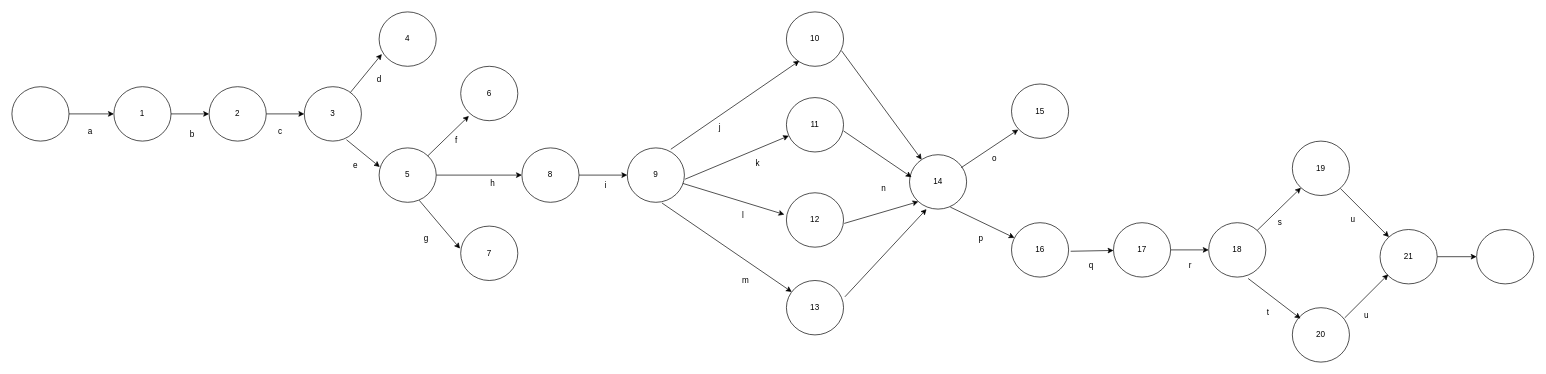
This 1546x374 diagram has some shape labels left out. Here are the shapes that lost their labels. From the top down, the centre of each, then its label:
the point at 40,113: Start
the point at 1505,256: Finish
